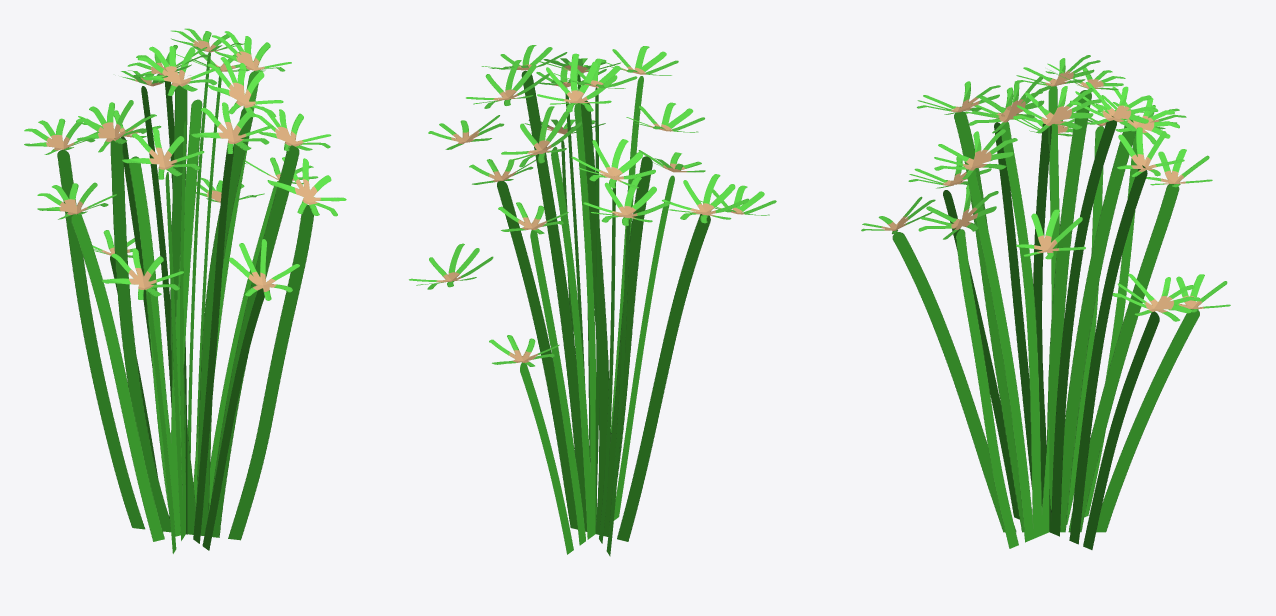
Rendered from Papyrus.fbx.
The picture shows the model from 3 angles, left to right: view 1: azimuth 30°, elevation 25°; view 2: azimuth 150°, elevation 25°; view 3: azimuth 270°, elevation 25°; orthographic projection.
Parts seen in each view (by area): view 1: Papyrus; view 2: Papyrus; view 3: Papyrus.
Part boxes in pixels (x1=…): Papyrus: x1=24, y1=28, x2=346, y2=553; Papyrus: x1=409, y1=45, x2=776, y2=556; Papyrus: x1=861, y1=55, x2=1230, y2=549.
Size of the model in its own units: 2.58 by 2.23 by 3.19.
